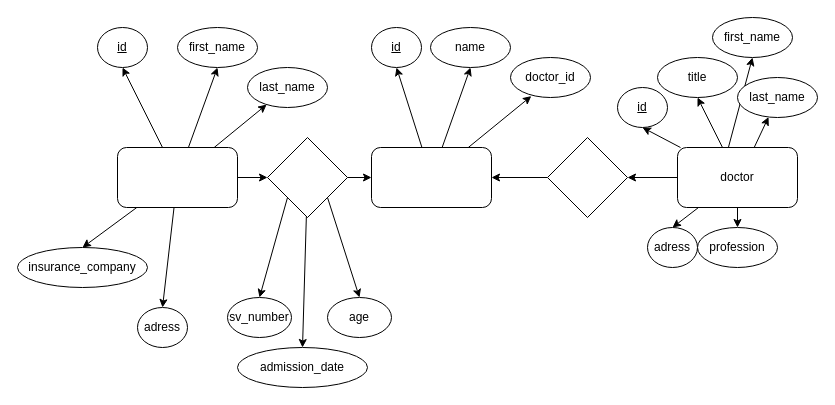
Some shapes in this 835 by 405 pixel diagram are drawn without their labels. The shapes that lost their labels are listed below. From the top down, each one's centre as x and y in pixels, then its label:
At [177,177]: "patient".
At [307,177]: "goes to".
At [431,177]: "unit".
At [587,177]: "works at".
